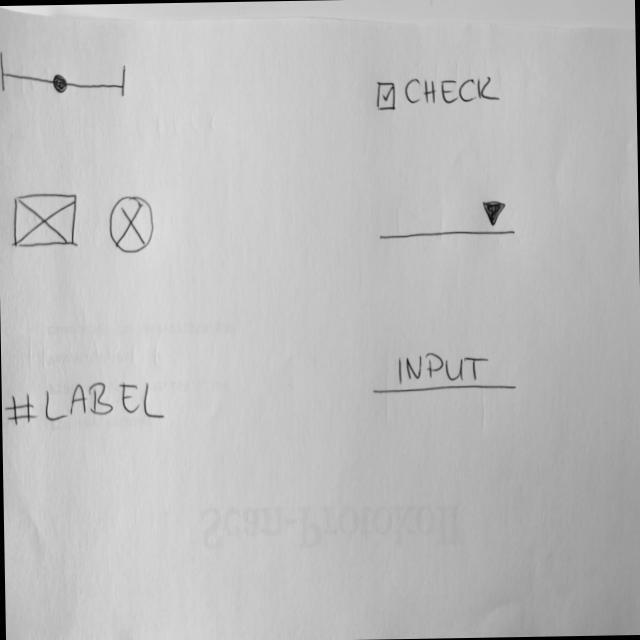checkbox: (376, 74, 503, 113)
image: (11, 191, 82, 251), (108, 194, 157, 258)
input: (372, 350, 519, 399)
label: (4, 379, 168, 428)
select: (378, 198, 520, 243)
slider: (1, 47, 129, 100)
